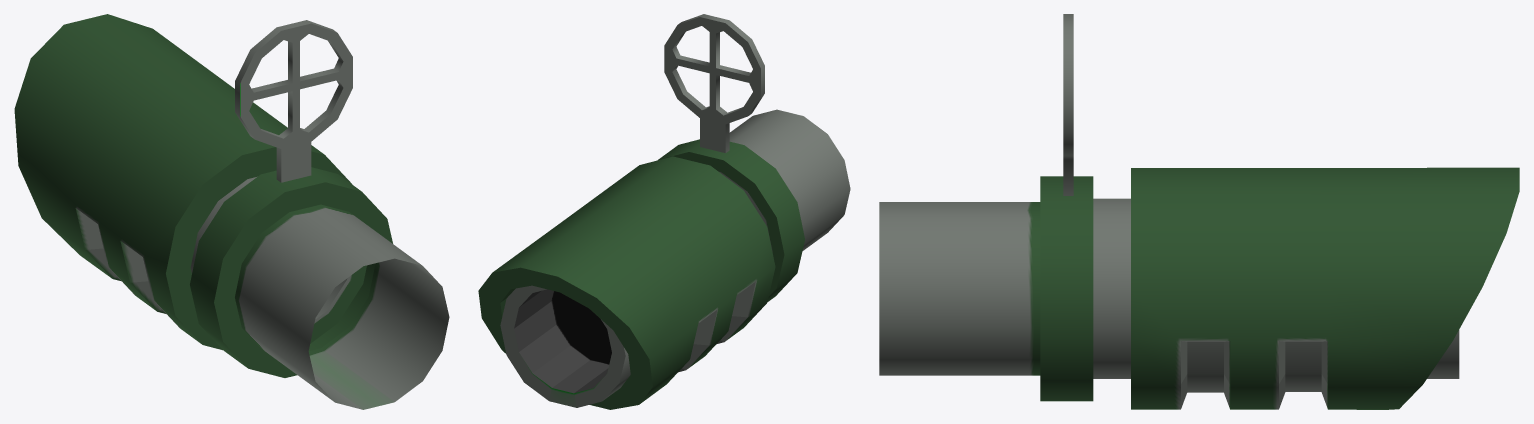
The model's file is Laser Gun.fbx.
3 views of the same model, side by side, from view 1: azimuth 30°, elevation 25°; view 2: azimuth 150°, elevation 25°; view 3: azimuth 270°, elevation 25° (orthographic). The views are drawn at different scales.
Parts seen in each view (by area): view 1: Laser_Muzzle, Laser_Barrel, Laser_Crossheir; view 2: Laser_Muzzle, Laser_Barrel, Laser_Crossheir; view 3: Laser_Muzzle, Laser_Barrel, Laser_Crossheir.
Boxes of the visible parts, x1,y1,x2,y2 form: Laser_Muzzle: (14,14,351,350); Laser_Barrel: (190,167,449,409); Laser_Crossheir: (235,20,352,182); Laser_Muzzle: (478,156,775,409); Laser_Barrel: (500,109,850,407); Laser_Crossheir: (664,14,764,153); Laser_Muzzle: (1131,167,1519,409); Laser_Barrel: (879,176,1459,401); Laser_Crossheir: (1063,14,1073,195).
Size of the model in its own units: 0.998 by 1.68 by 2.59.
1 material, 1 textured.
